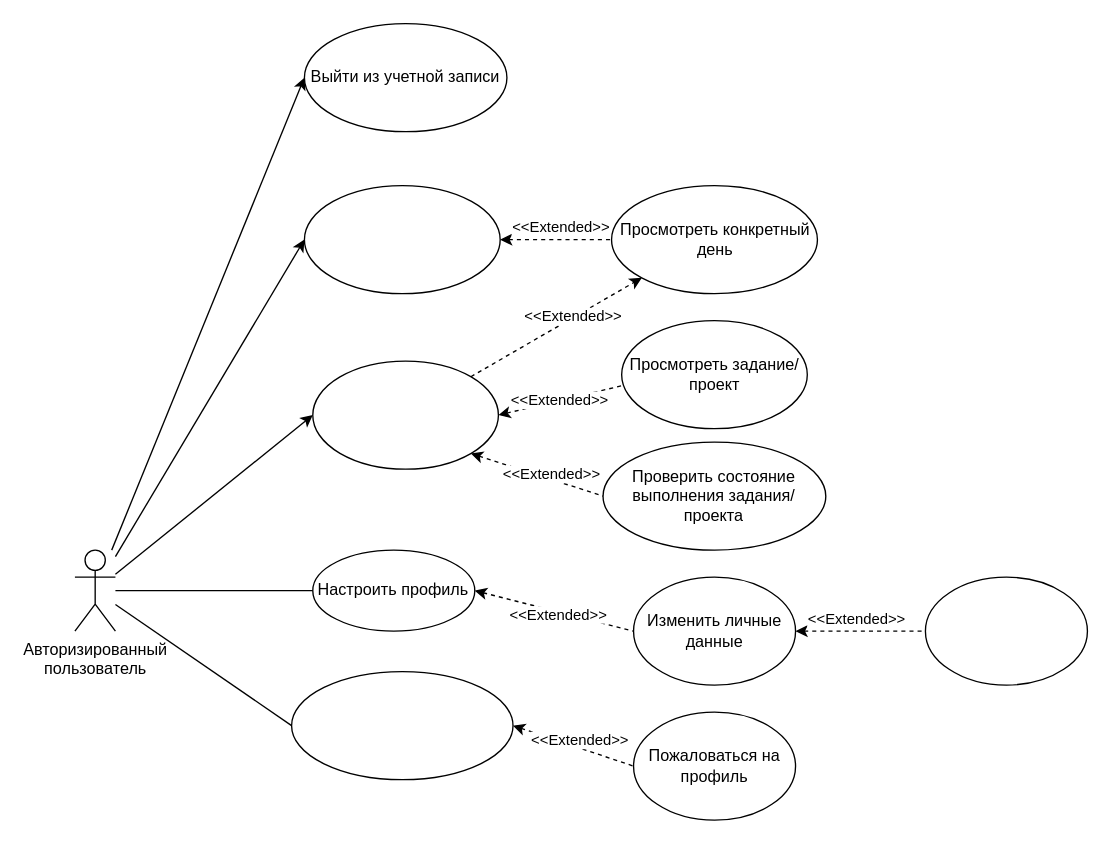
Some shapes in this 1111 by 844 pixel diagram are drawn without their labels. The centre of each missing label's shape, as x and y in pixels:
Взаимодействие с заданиями/проектами: [404,414]
Изменить аватар: [1005,630]
Просмотреть календарь: [401,239]
Просмотреть профиль другого пользователя: [401,725]
